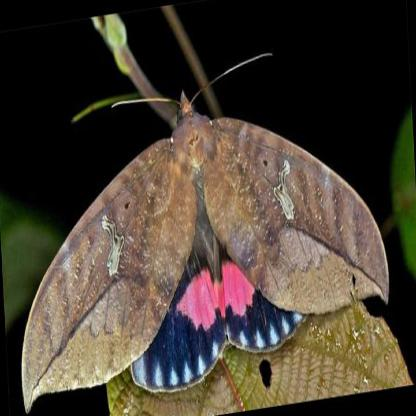fruit sucking moth: (23, 94, 388, 414)
